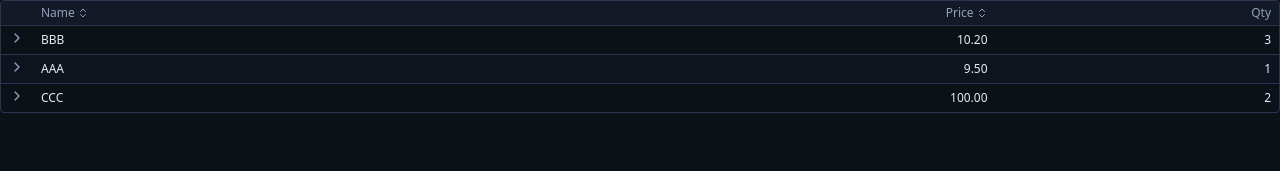
Test: DataTable — expandable rows (renderExpanded) › toggles the inline detail row open/closed from the expander button and wires aria-controls to the detail id
Check: the text "detail for BBB" is not shown
Click the button named "Expand details" next to "BBB". click: click(17, 38)
box: top-left (9, 30), bottom-right (25, 46)
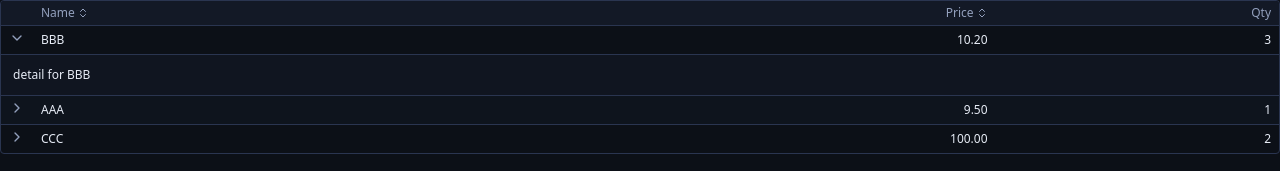
Check: the button named "Collapse details" is expanded
Check: the text "detail for BBB" is shown, box top-left (13, 66), bottom-right (90, 83)
Click the button named "Collapse details". click: click(17, 38)
box: top-left (9, 30), bottom-right (25, 46)
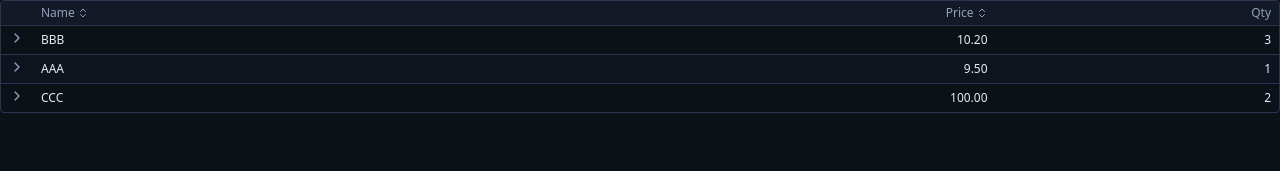
Check: the text "detail for BBB" is gone
